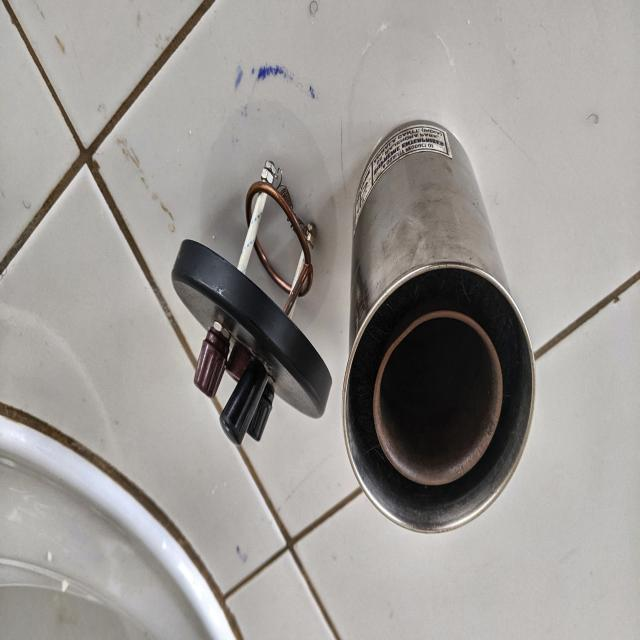Joule-s Calorimeter: (336, 95, 541, 568)
